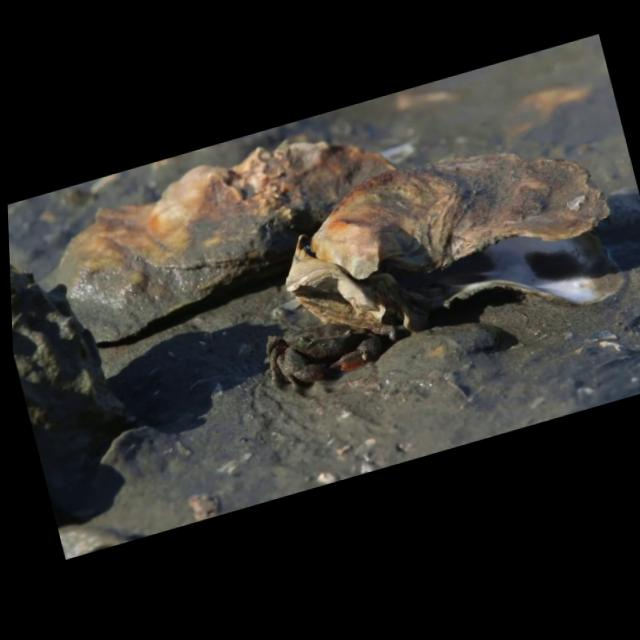Oyster-Closed: (34, 140, 400, 348)
Oyster-Open: (284, 143, 631, 334)
